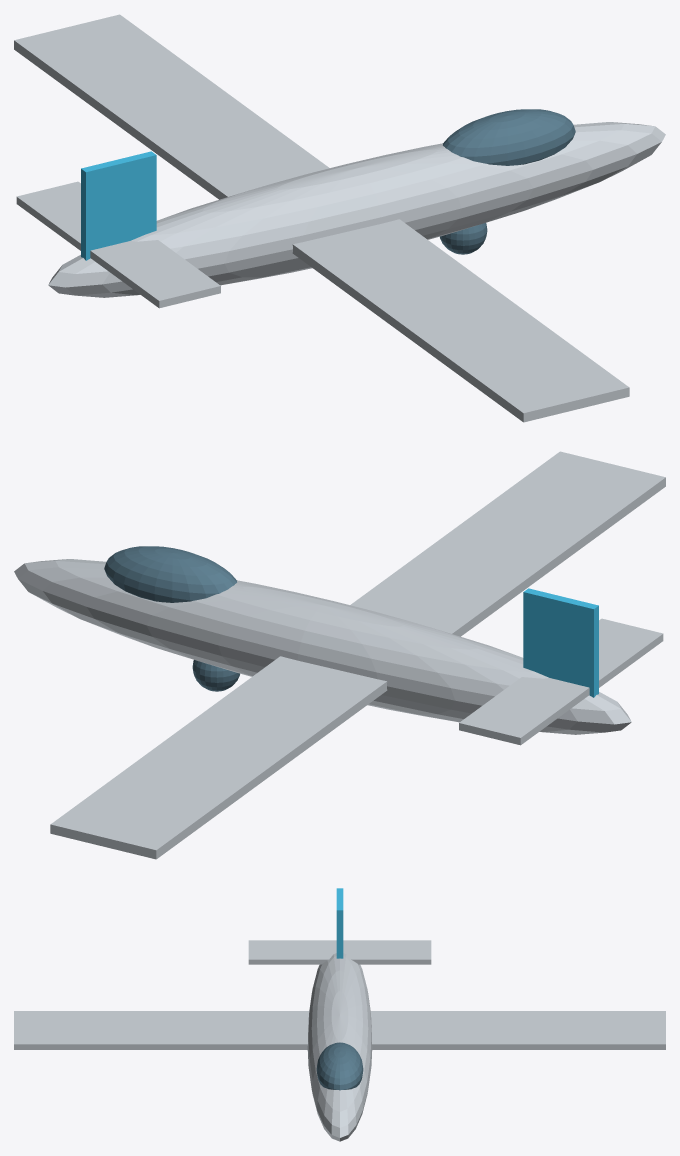
Rendered from uav.gltf.
The picture shows the model from 3 angles, top to bottom: view 1: azimuth 30°, elevation 25°; view 2: azimuth 150°, elevation 25°; view 3: azimuth 270°, elevation 25°; orthographic projection. The views are drawn at different scales.
Bounding box in the file's own units: 7 × 1.89 × 10.
